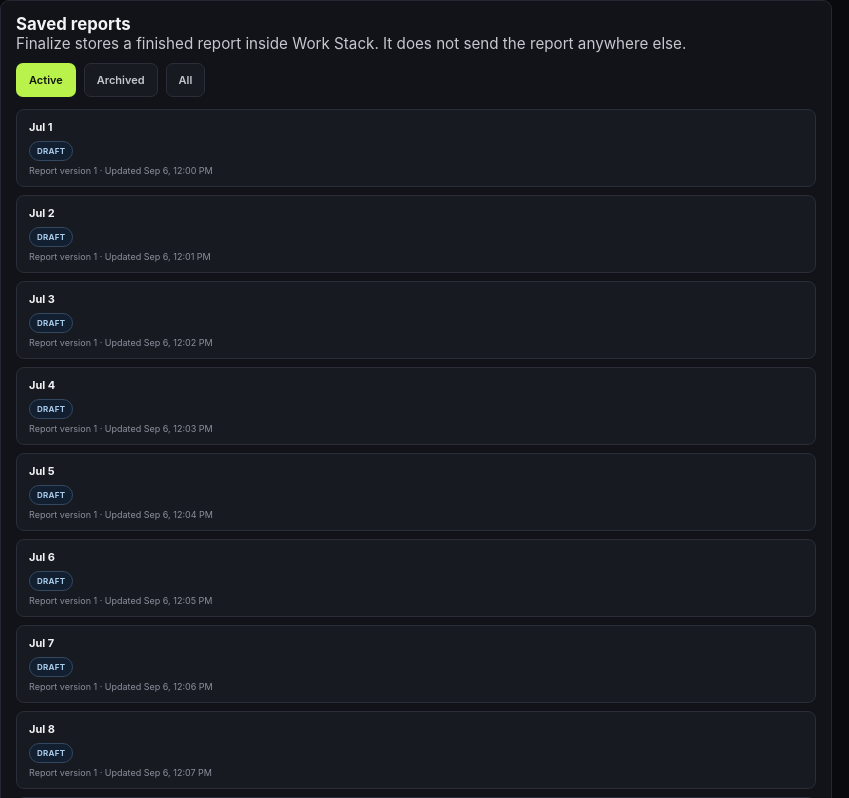
Test: changing filter resets the cursor instead of reusing it
What coordinates should you click on to do the following:
click the button "Archived"
I would click on:
 (121, 80)
Its box is [84,63,158,97].
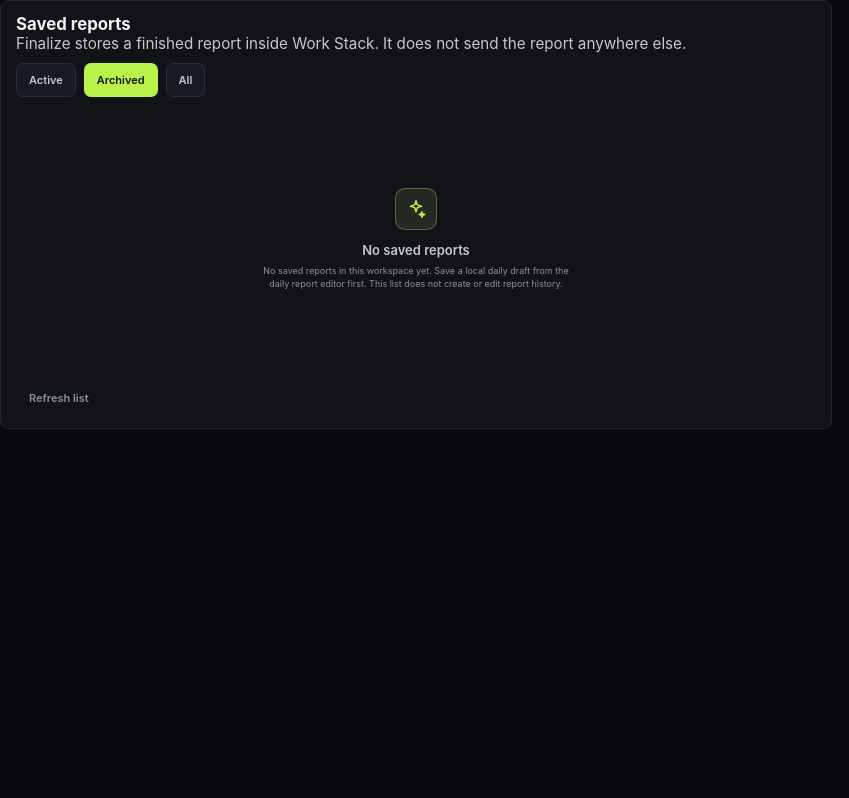
Expected: the text "Save a local daily draft" is shown, [263,264,569,289]
